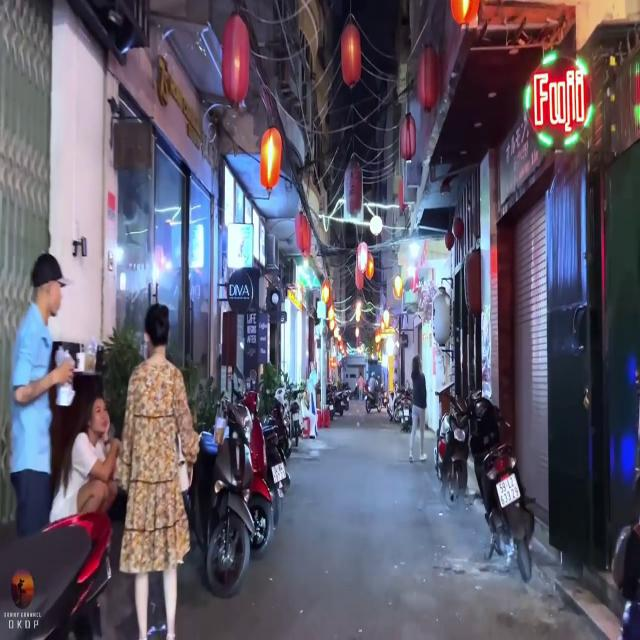bien_trang: (493, 475, 527, 509), (270, 457, 291, 487)
